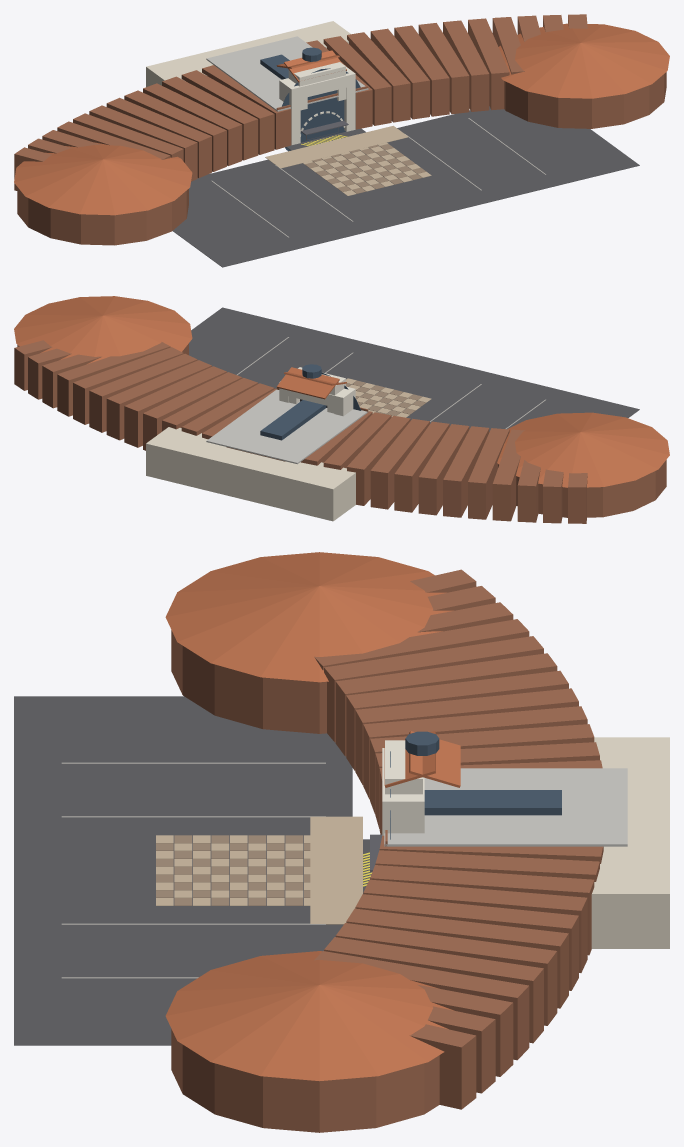
The model's file is shopping_del_sol_blockout.glb.
The picture shows the model from 3 angles, top to bottom: view 1: azimuth 30°, elevation 25°; view 2: azimuth 150°, elevation 25°; view 3: azimuth 270°, elevation 25°; orthographic projection. The views are drawn at different scales.
Visible parts, largest first — view 1: SDS_ParkingLot, SDS_RoofPavilion_L, SDS_RoofPavilion_R, SDS_Pavilion_L, SDS_Pavilion_R, SDS_RoofMain, SDS_RearVolume, SDS_PlazaPad, SDS_Wing_R_06, SDS_Wing_R_07, SDS_Wing_R_04, SDS_Wing_R_05 (+26 smaller); view 2: SDS_ParkingLot, SDS_RearVolume, SDS_RoofPavilion_L, SDS_RoofPavilion_R, SDS_RoofMain, SDS_Pavilion_L, SDS_Wing_L_06, SDS_Wing_L_04, SDS_Wing_L_05, SDS_Wing_L_07, SDS_Wing_L_08, SDS_Wing_R_06 (+22 smaller); view 3: SDS_ParkingLot, SDS_RoofPavilion_R, SDS_RoofPavilion_L, SDS_Pavilion_R, SDS_RearVolume, SDS_RoofMain, SDS_Pavilion_L, SDS_PlazaPad, SDS_Wing_R_08, SDS_Wing_R_07, SDS_Wing_R_06, SDS_Wing_L_07 (+24 smaller).
Part boxes in pixels (x1,y1,x2,y2): SDS_ParkingLot: [173, 106, 639, 267]; SDS_RoofPavilion_L: [14, 142, 192, 215]; SDS_RoofPavilion_R: [498, 23, 669, 98]; SDS_Pavilion_L: [17, 187, 188, 245]; SDS_Pavilion_R: [504, 72, 666, 128]; SDS_RoofMain: [206, 36, 368, 111]; SDS_RearVolume: [146, 21, 350, 87]; SDS_PlazaPad: [265, 125, 408, 168]; SDS_Wing_R_06: [418, 23, 469, 114]; SDS_Wing_R_07: [443, 20, 489, 111]; SDS_Wing_R_04: [370, 28, 429, 119]; SDS_Wing_R_05: [394, 25, 449, 116]; SDS_ParkingLot: [189, 307, 639, 431]; SDS_RearVolume: [146, 427, 355, 521]; SDS_RoofPavilion_L: [497, 412, 669, 487]; SDS_RoofPavilion_R: [14, 296, 192, 364]; SDS_RoofMain: [206, 389, 368, 464]; SDS_Pavilion_L: [498, 460, 666, 517]; SDS_Wing_L_06: [418, 424, 469, 515]; SDS_Wing_L_04: [370, 418, 429, 509]; SDS_Wing_L_05: [394, 421, 449, 512]; SDS_Wing_L_07: [443, 426, 489, 517]; SDS_Wing_L_08: [468, 428, 509, 519]; SDS_Wing_R_06: [106, 360, 211, 440]; SDS_ParkingLot: [14, 696, 352, 1045]; SDS_RoofPavilion_R: [165, 951, 453, 1081]; SDS_RoofPavilion_L: [165, 552, 453, 682]; SDS_Pavilion_R: [171, 1029, 439, 1132]; SDS_RearVolume: [591, 737, 669, 948]; SDS_RoofMain: [384, 768, 627, 846]; SDS_Pavilion_L: [171, 630, 326, 733]; SDS_PlazaPad: [310, 816, 362, 924]; SDS_Wing_R_08: [324, 937, 543, 1043]; SDS_Wing_R_07: [335, 923, 557, 1025]; SDS_Wing_R_06: [346, 908, 568, 1008]; SDS_Wing_L_07: [335, 653, 557, 756].
Size of the model in its own units: 237 by 36.19 by 124.
